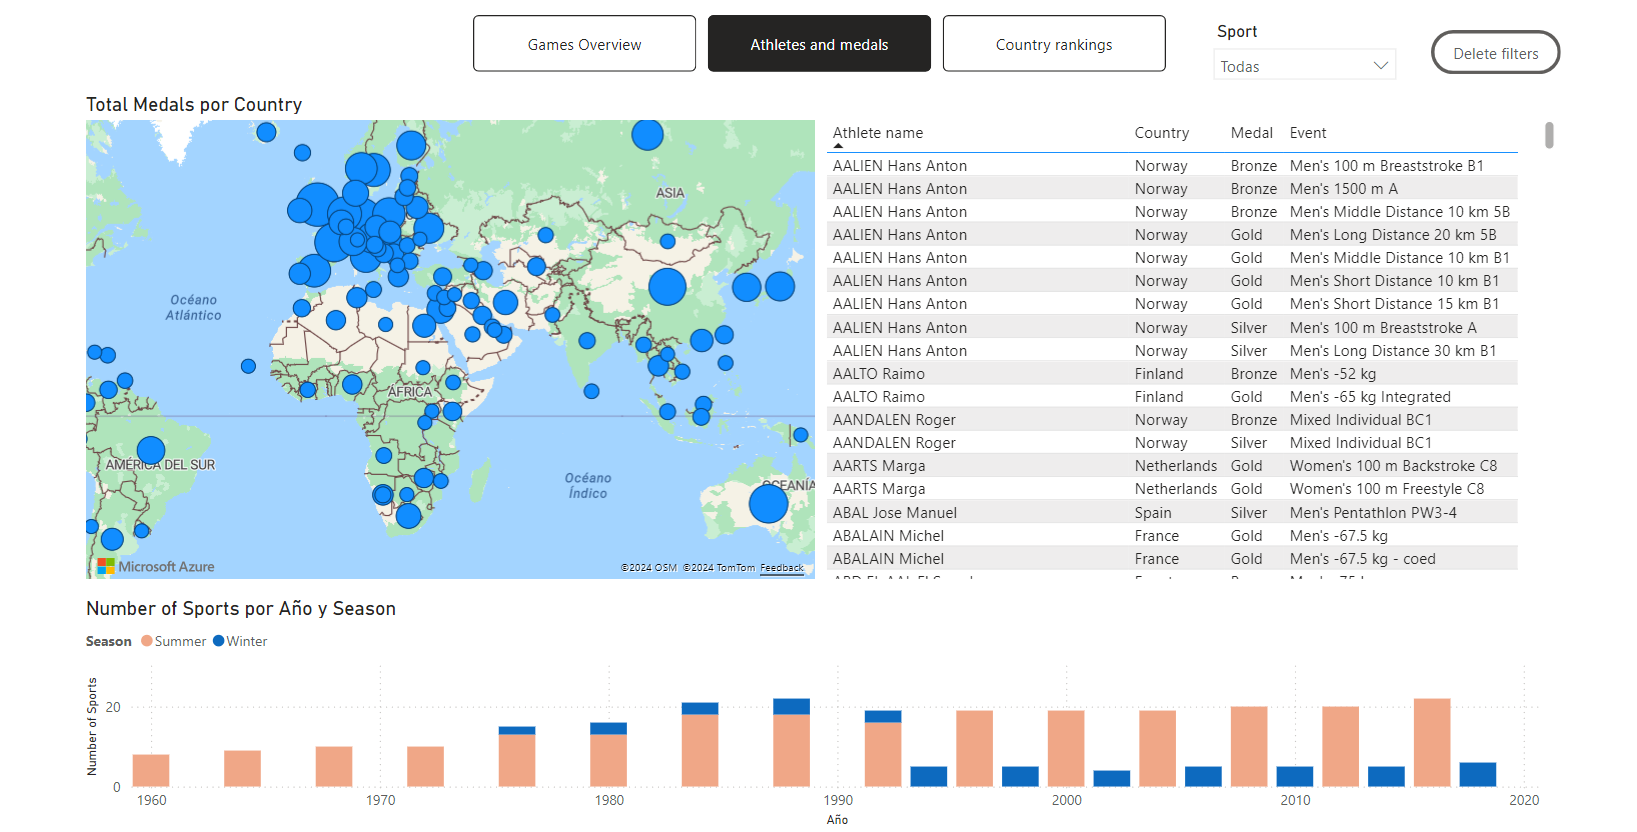

This screenshot's page, from the dashboard's own definition file:
{"tool":"powerbi","page":{"name":"Athletes and medals","canvas":[1280,720],"ordinal":1},"visuals":[{"type":"pageNavigator","box":[339.8,13.7,600.3,49.9],"z":0},{"type":"azureMap","fields":{"Size":["Metrics medals.Total Medals"],"Category":["Winning Countries.npc_name"]},"box":[0,80.3,640.5,426],"z":1000},{"type":"tableEx","fields":{"Values":["Athletes and Medals.athlete_name","Winning Countries.npc_name","Athletes and Medals.medal","Athletes and Medals.event"]},"box":[639.5,99.9,640.5,406.4],"z":2000},{"type":"columnChart","fields":{"Category":["Games.games_start_date.Variación.Jerarquía de fechas.Año"],"Y":["Sports.sport"],"Series":["Games.games_season"]},"box":[0,516.1,1269.2,203.7],"z":3000},{"type":"slicer","fields":{"Values":["Sports.sport"]},"box":[969.8,14.6,177.6,65.2],"z":4000},{"type":"actionButton","box":[1167.6,27,112.4,38.2],"z":5000}]}

Visuals, with their boxes on the page's 1280x720 design canvas (x1, y1, x2, y2). These are canvas units, not pixel positions in the 1637x832 screenshot, which may show the page scaled, cropped or inside an application window:
pageNavigator: 340 14 940 64
azureMap - Metrics medals.Total Medals x Winning Countries.npc_name: 0 80 640 506
tableEx - Athletes and Medals.athlete_name x Winning Countries.npc_name: 640 100 1280 506
columnChart - Games.games_start_date.Variación.Jerarquía de fechas.Año x Sports.sport: 0 516 1269 720
slicer - Sports.sport: 970 15 1147 80
actionButton: 1168 27 1280 65
